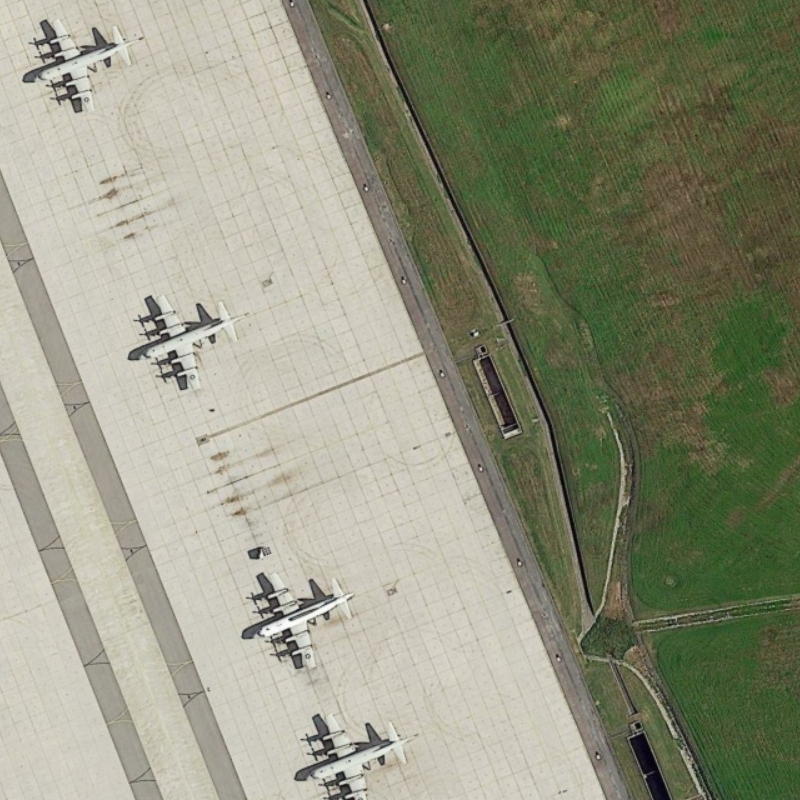A9: (17, 10, 146, 119), (122, 289, 248, 400), (244, 561, 360, 675), (291, 700, 411, 800)
